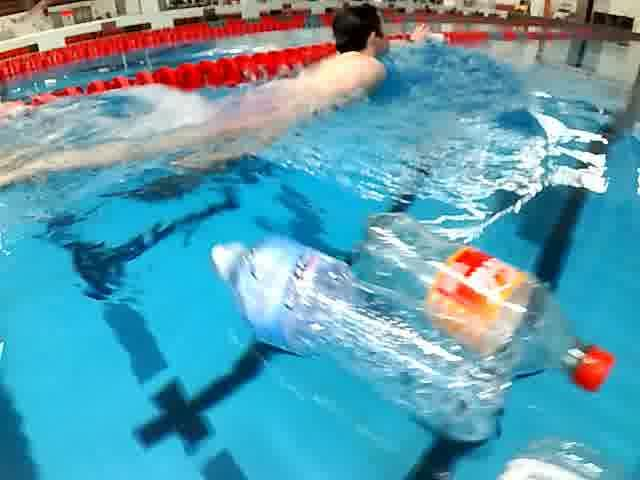Bottle: (198, 234, 514, 444), (347, 206, 621, 393)
